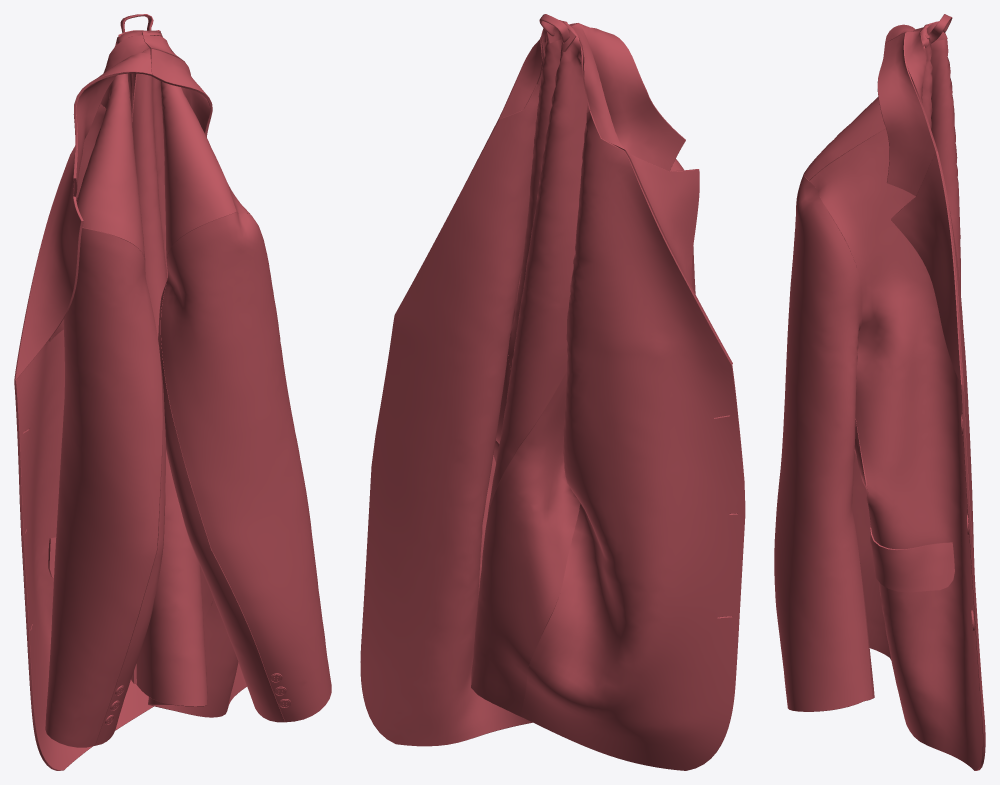
Rendered from jacket01.fbx.
3 views of the same model, side by side, from view 1: azimuth 30°, elevation 25°; view 2: azimuth 150°, elevation 25°; view 3: azimuth 270°, elevation 25° (orthographic). The views are drawn at different scales.
Visible parts, largest first — view 1: jacket; view 2: jacket; view 3: jacket.
Boxes of the visible parts, x1=… form: jacket: x1=14, y1=14, x2=331, y2=770; jacket: x1=360, y1=14, x2=745, y2=770; jacket: x1=774, y1=14, x2=985, y2=770.
Size of the model in its own units: 38.12 by 83.24 by 23.02.
